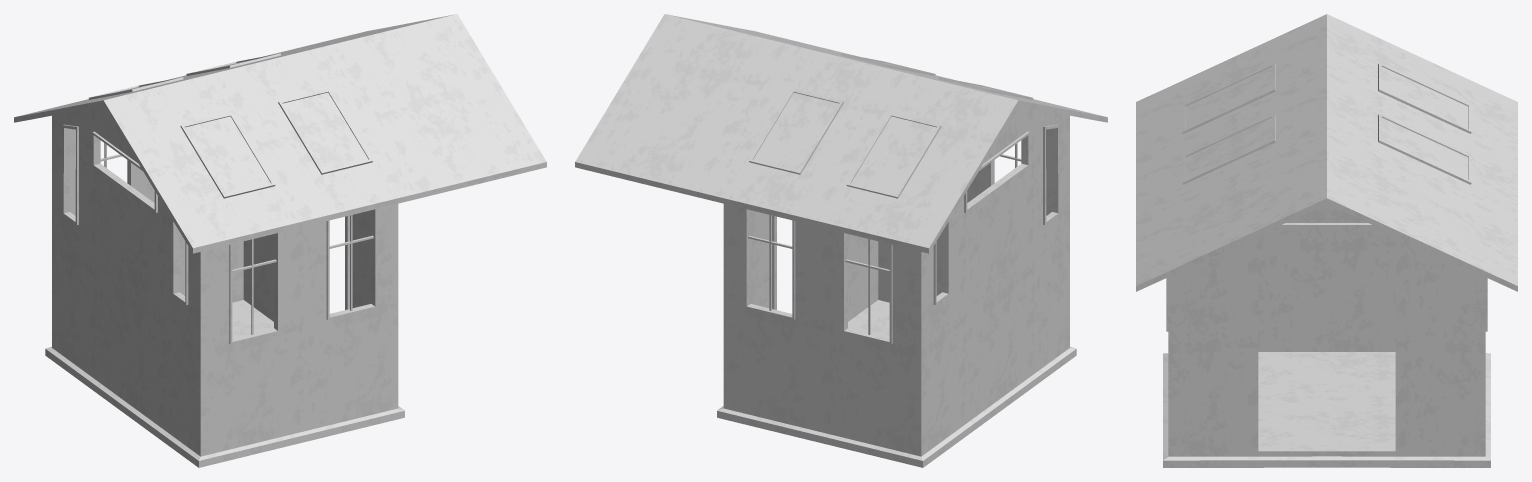
The model's file is Steam Train Machine Room_A_001.fbx.
3 views of the same model, side by side, from view 1: azimuth 30°, elevation 25°; view 2: azimuth 150°, elevation 25°; view 3: azimuth 270°, elevation 25° (orthographic). The views are drawn at different scales.
Parts seen in each view (by area): view 1: Steam_Train_Machine_Room_A_001; view 2: Steam_Train_Machine_Room_A_001; view 3: Steam_Train_Machine_Room_A_001.
Boxes of the visible parts, x1,y1,x2,y2 form: Steam_Train_Machine_Room_A_001: (14,14,546,467); Steam_Train_Machine_Room_A_001: (575,14,1107,467); Steam_Train_Machine_Room_A_001: (1136,14,1517,467).
Size of the model in its own units: 299 by 255 by 262.
3 materials, 3 textured.
